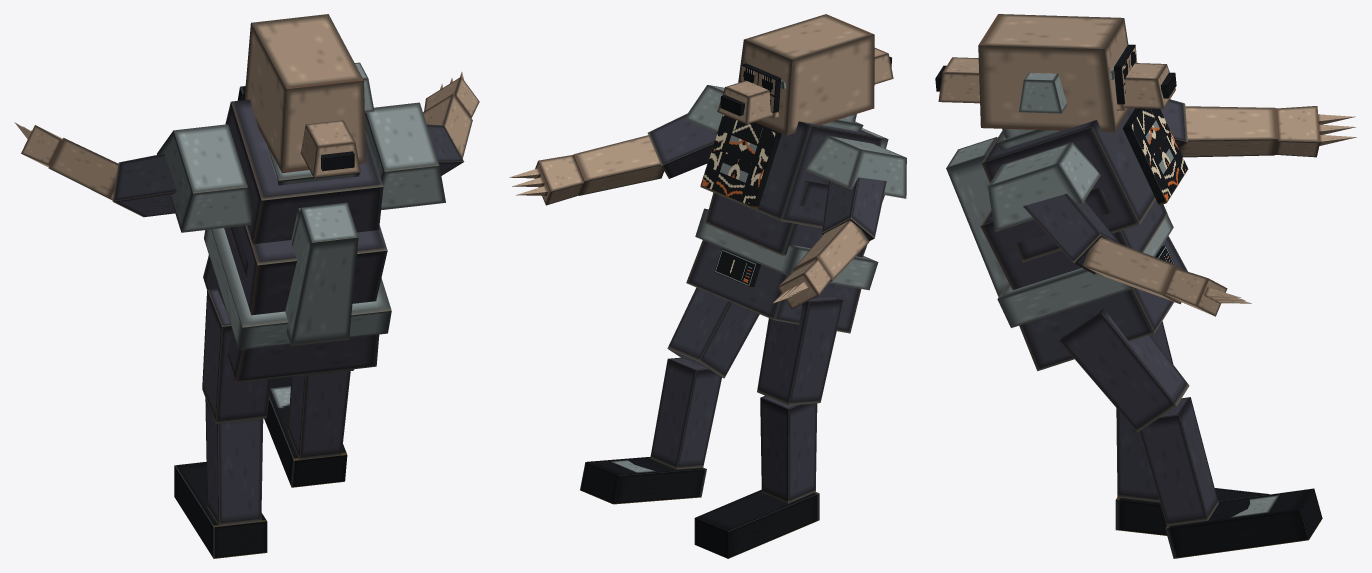
File: repetiel_death.obj
3 renders of one model, left to right at view 1: azimuth 30°, elevation 25°; view 2: azimuth 150°, elevation 25°; view 3: azimuth 270°, elevation 25°, orthographic. The views are drawn at different scales.
Visible parts, largest first — view 1: repetiel_death; view 2: repetiel_death; view 3: repetiel_death.
Boxes of the visible parts, x1=… form: repetiel_death: x1=14, y1=14, x2=479, y2=558; repetiel_death: x1=509, y1=14, x2=906, y2=558; repetiel_death: x1=935, y1=14, x2=1356, y2=558.
Bounding box in the file's own units: 0.7848 × 0.9853 × 0.7444.
1 material, 1 textured.
